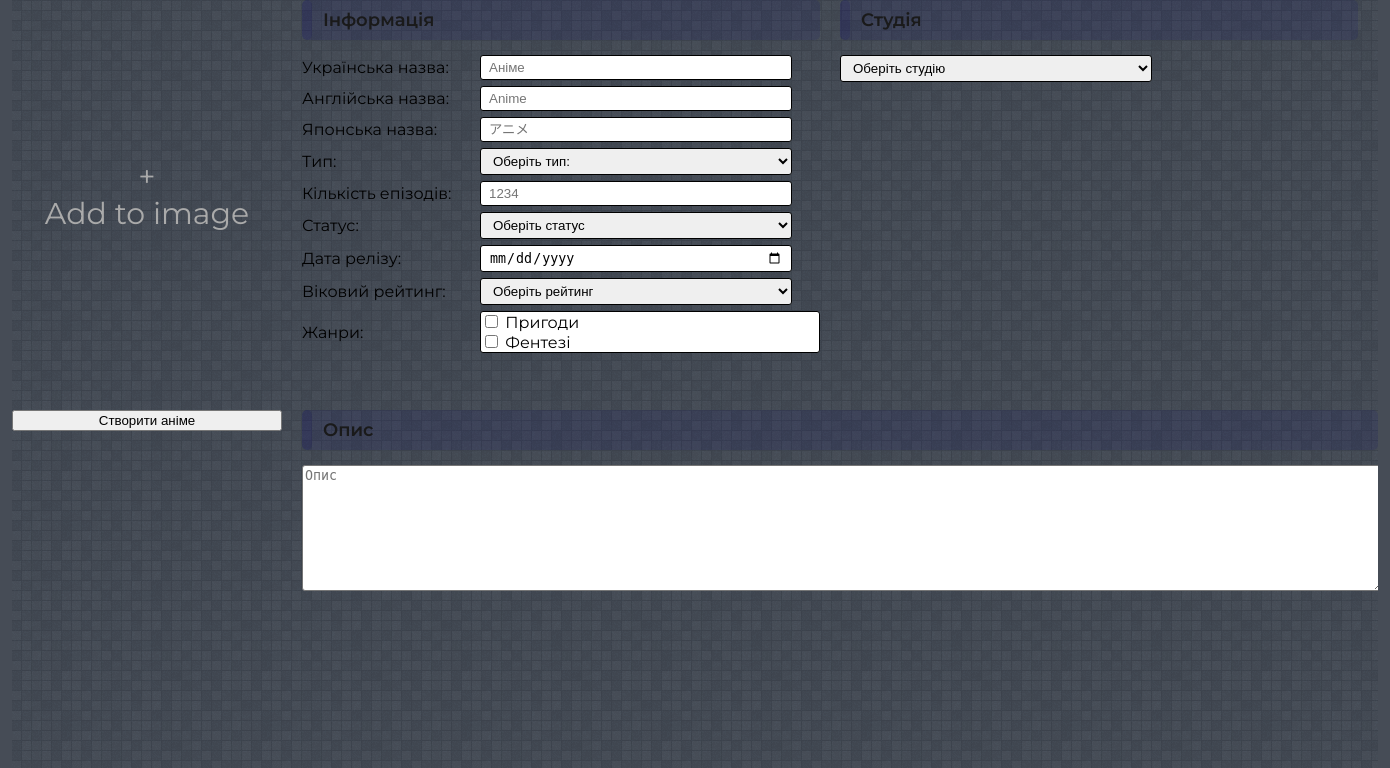
AnimeForm › показує помилку від сервера, якщо API повертає помилку
In the field labelled "Англійська назва:": (636, 98) [480,86,792,111], type "Test Anime"
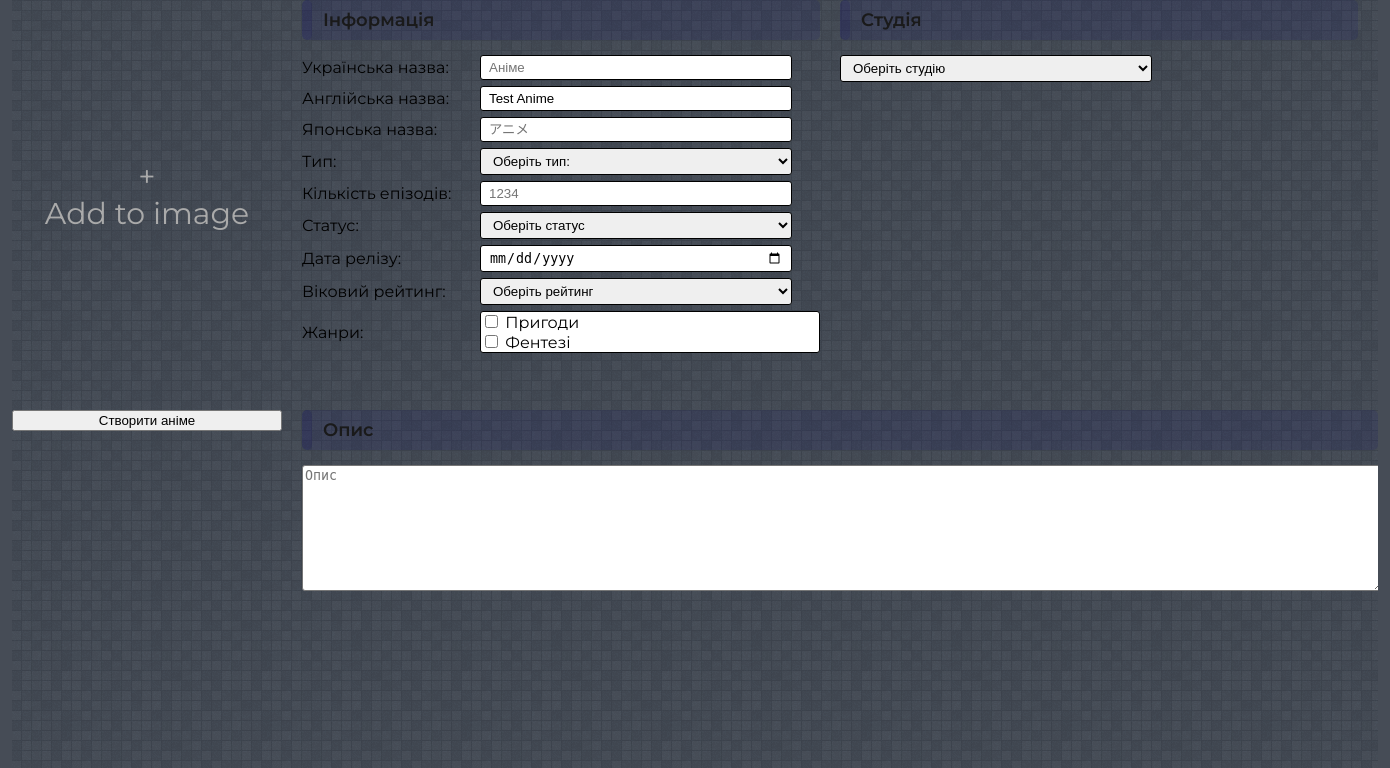
Select "TV-серіал" in the dropdown labelled "Тип:": (636, 162) [480,148,792,175]
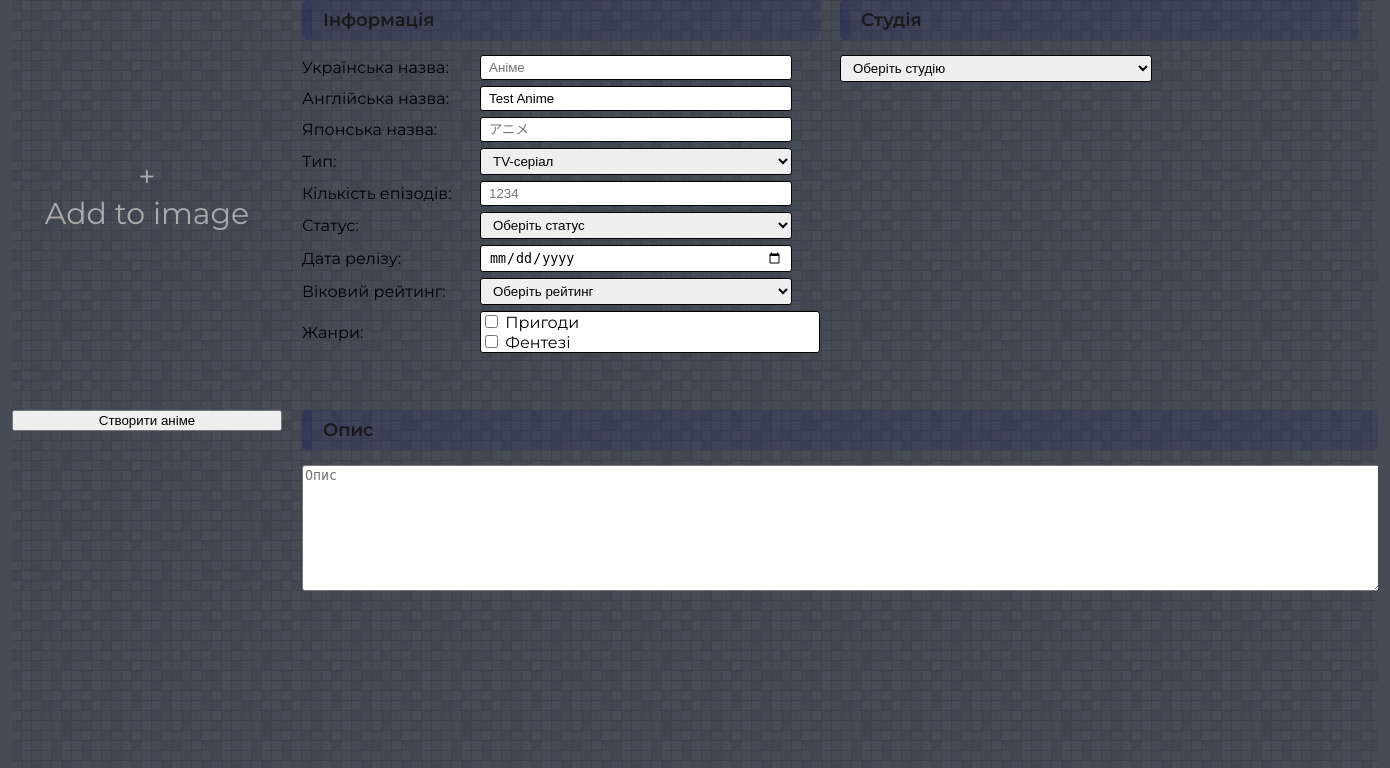
Select "Онгоїнг" in the dropdown labelled "Статус:": (636, 226) [480,212,792,239]
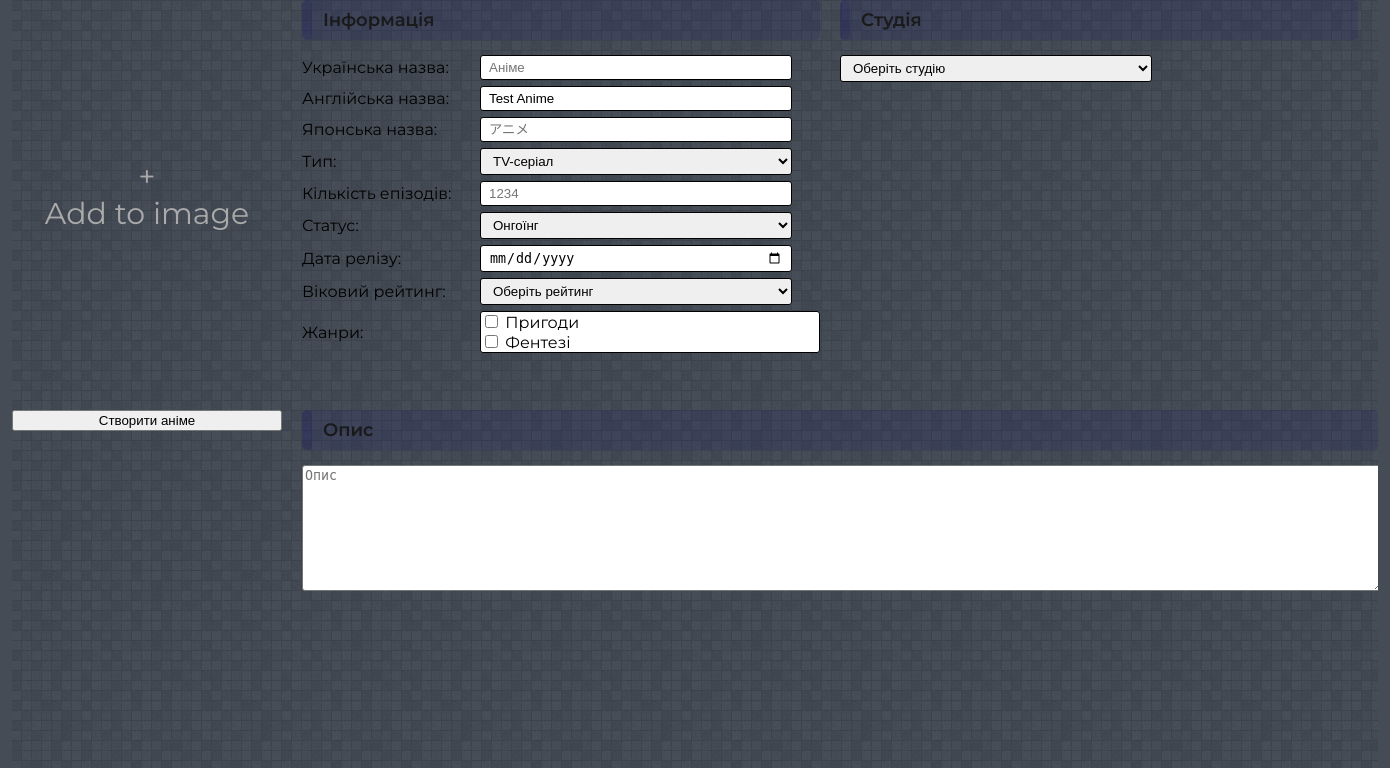
Click the button: (147, 420) [12,410,282,431]
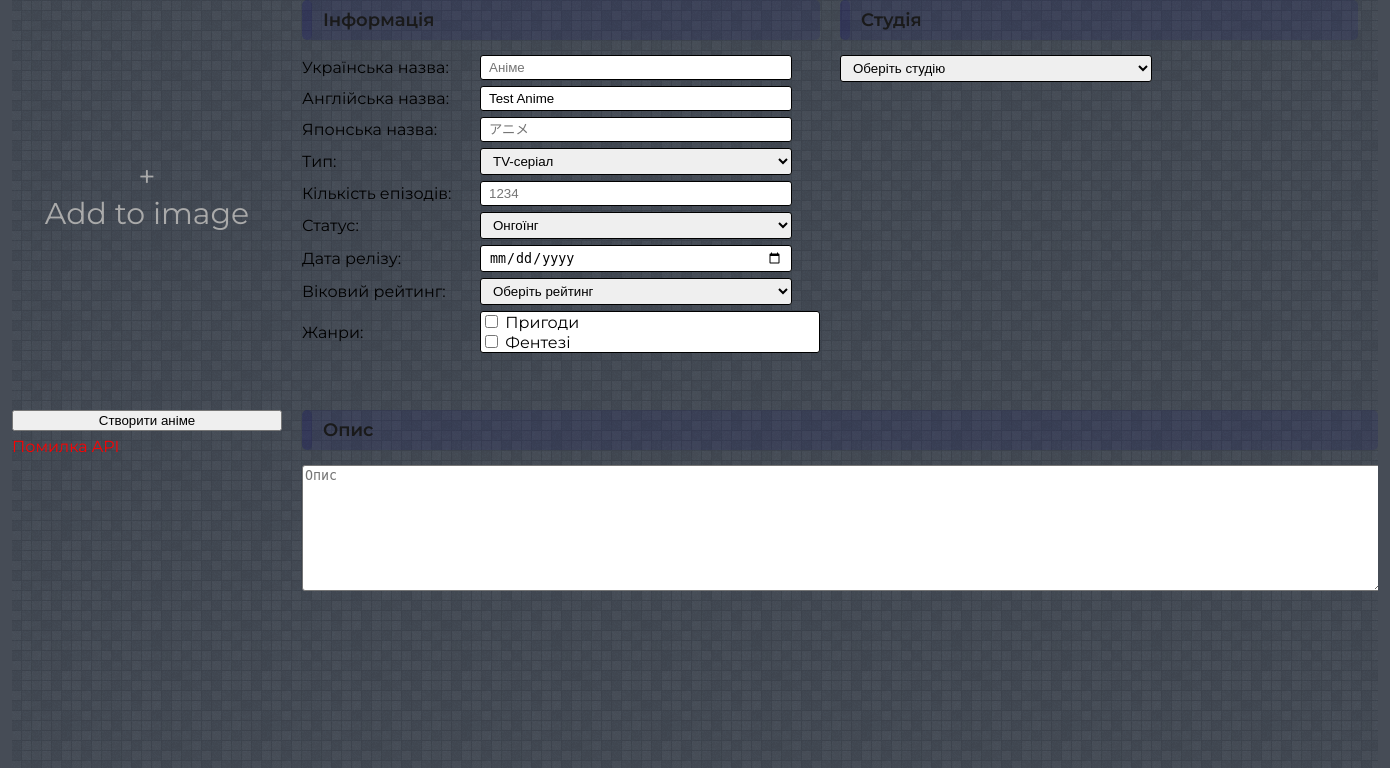
expect the text "Помилка API" is shown: met, box [12,437,119,456]
